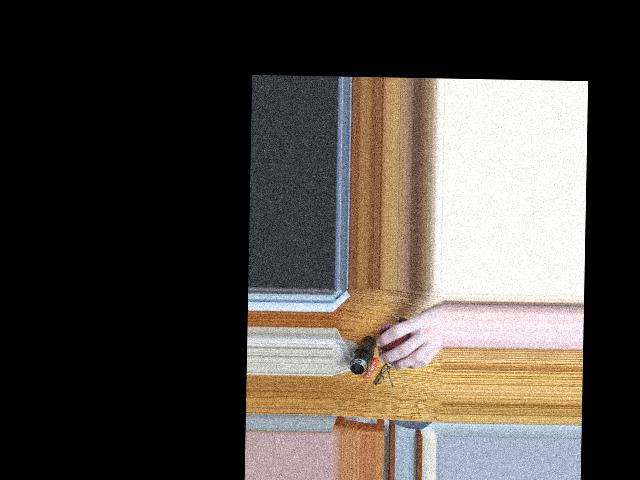onion: (386, 324, 418, 363)
